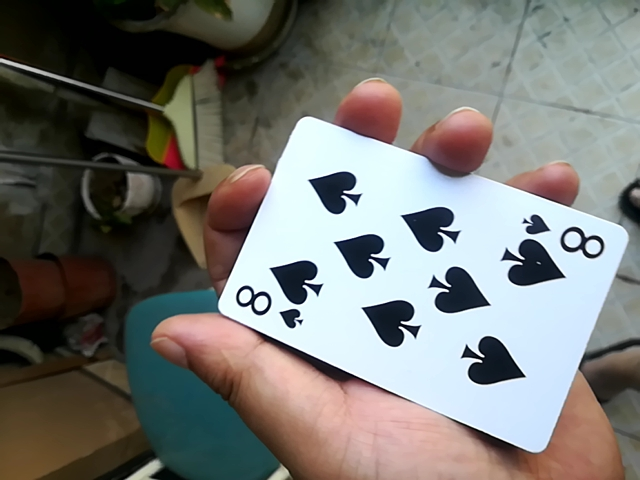ht 8: (200, 115, 634, 447)
